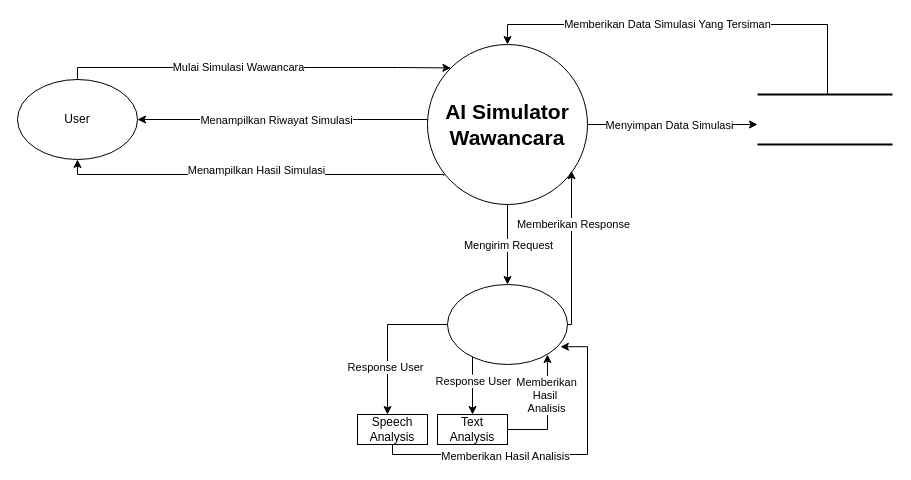
Image size: 911x480. Some labels were removed from this diagram. The shapes that lost their labels are listed below. From the top down, each one's centre as x and y in pixels, then its label:
At pixel 824 119: "Database".
At pixel 507 324: "Open AI".
